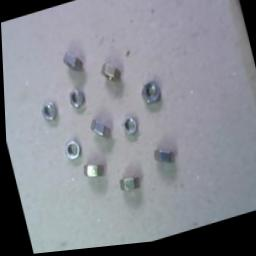Non-corroded Nut: (62, 53, 84, 75), (141, 83, 160, 107), (100, 65, 121, 85), (89, 122, 110, 141), (69, 90, 84, 113), (40, 103, 57, 123), (64, 142, 80, 162), (152, 153, 174, 167), (82, 166, 103, 180), (118, 180, 139, 193), (121, 120, 136, 138)
